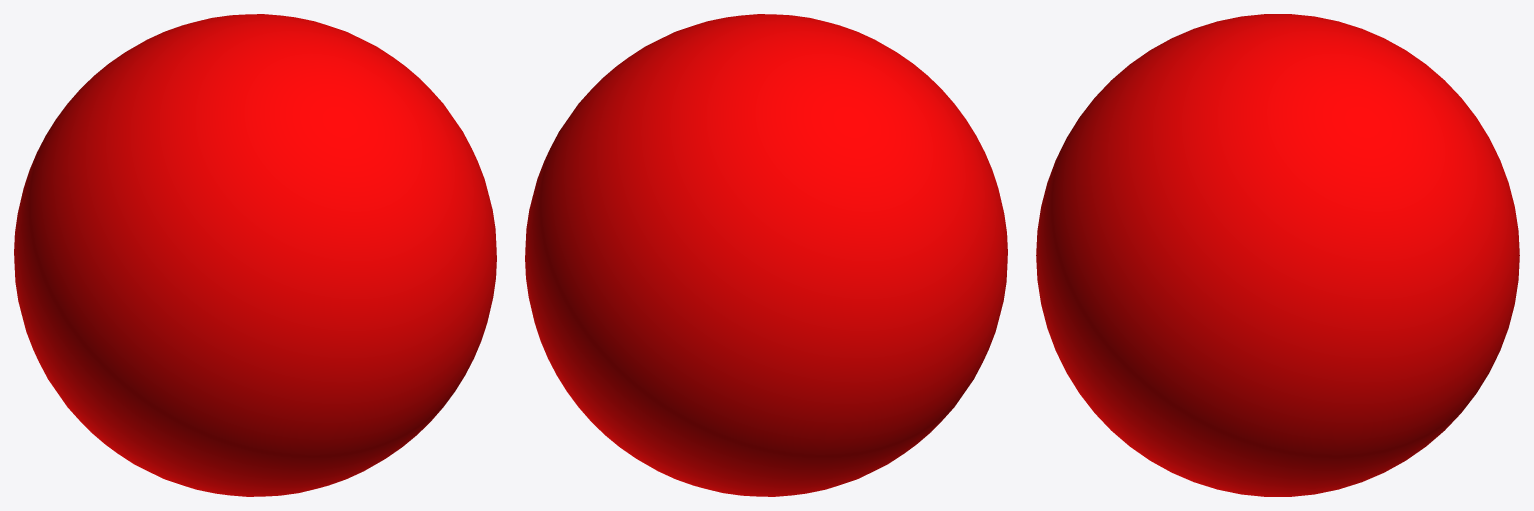
Rendered from bubble.glb.
3 renders of one model, left to right at view 1: azimuth 30°, elevation 25°; view 2: azimuth 150°, elevation 25°; view 3: azimuth 270°, elevation 25°, orthographic.
Parts seen in each view (by area): view 1: Speech Bubble; view 2: Speech Bubble; view 3: Speech Bubble.
Part boxes in pixels (left/top/right/bottom): Speech Bubble: left=14, top=14, right=496, bottom=496; Speech Bubble: left=525, top=14, right=1007, bottom=496; Speech Bubble: left=1036, top=14, right=1519, bottom=496.
Bounding box in the file's own units: 0.1778 × 0.1773 × 0.1778.
